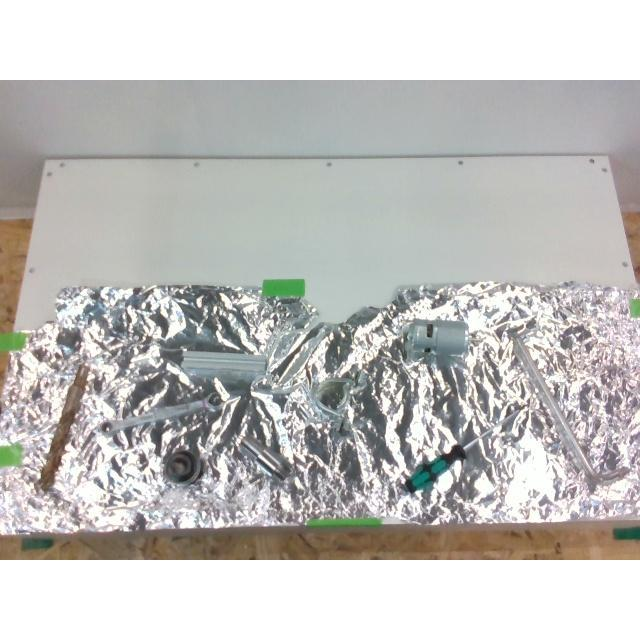AllenKey: (512, 332, 628, 484)
Axis2: (239, 436, 291, 479)
Bearing2: (162, 450, 200, 486)
Drill: (36, 364, 88, 492)
F20_20_G: (182, 351, 266, 381)
Housing: (307, 370, 367, 428)
Motor2: (402, 320, 468, 360)
Screwdriver: (402, 408, 522, 492)
Wrench: (102, 391, 218, 431)
